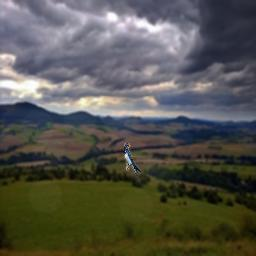Swallow: (124, 143, 141, 183)
